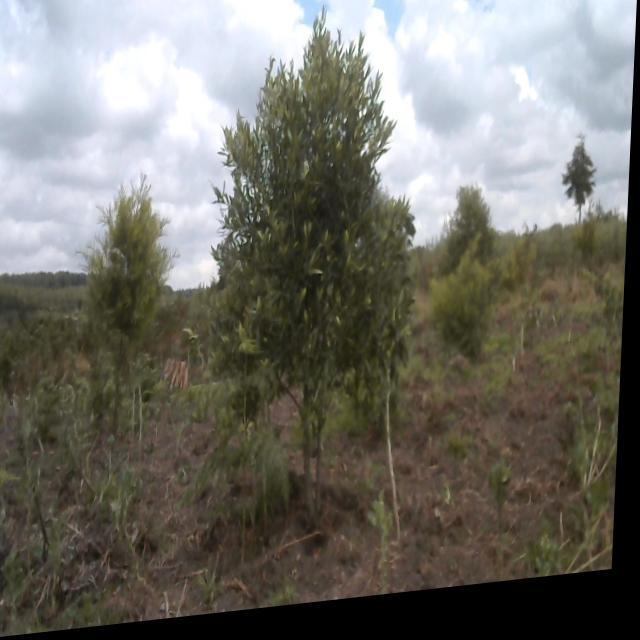Podocarpus falcatus: (73, 172, 193, 434)
Salix alba: (198, 6, 434, 554)
cedrus: (563, 144, 602, 240)
